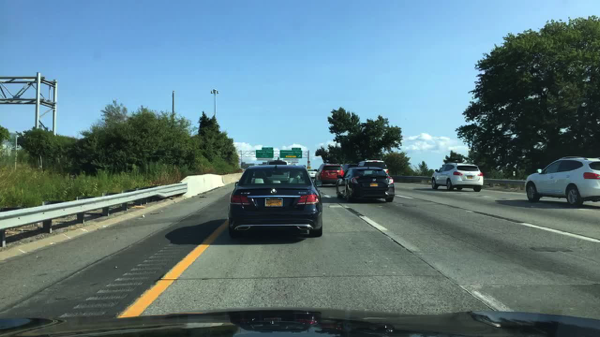car: (228, 165, 324, 240), (526, 156, 599, 209), (335, 167, 396, 202), (432, 162, 484, 192), (319, 163, 345, 186), (359, 160, 389, 176), (342, 163, 358, 174), (265, 159, 289, 165), (307, 168, 318, 179)
traffic sign: (279, 150, 302, 159), (255, 149, 273, 158), (261, 147, 274, 151), (291, 147, 301, 151), (307, 161, 311, 167)
